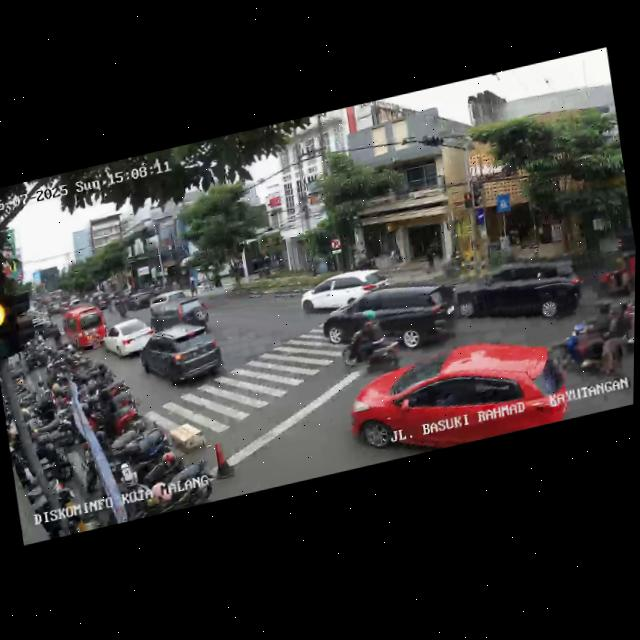car: (343, 321, 574, 469), (325, 268, 467, 374), (449, 244, 588, 344), (137, 318, 227, 397), (297, 261, 391, 318), (147, 292, 210, 338), (100, 314, 157, 364), (60, 301, 109, 356), (147, 287, 190, 314)
motorcycle: (556, 292, 635, 391), (337, 306, 410, 381), (589, 239, 636, 306)
